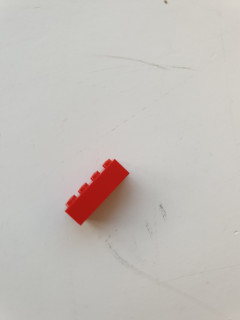2x4 red: (59, 157, 132, 229)
